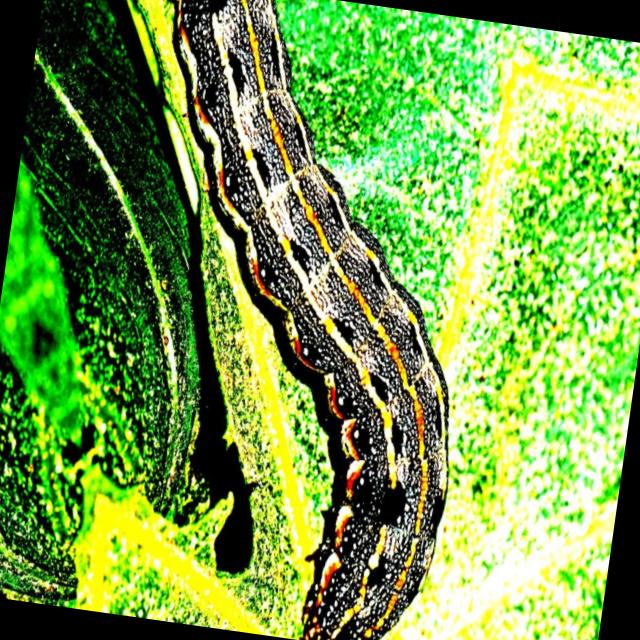Armyworm: (62, 1, 526, 640)
